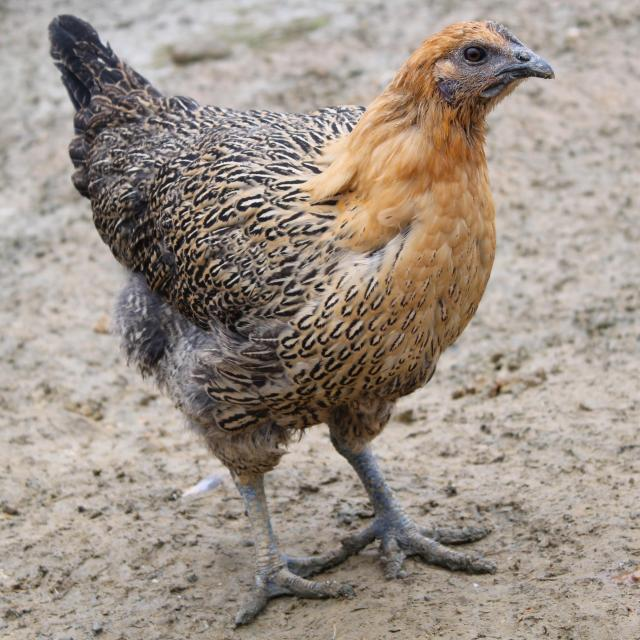hen: (41, 15, 553, 630)
